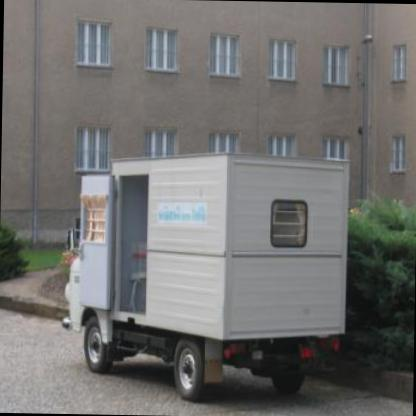truck: (65, 146, 353, 404)
